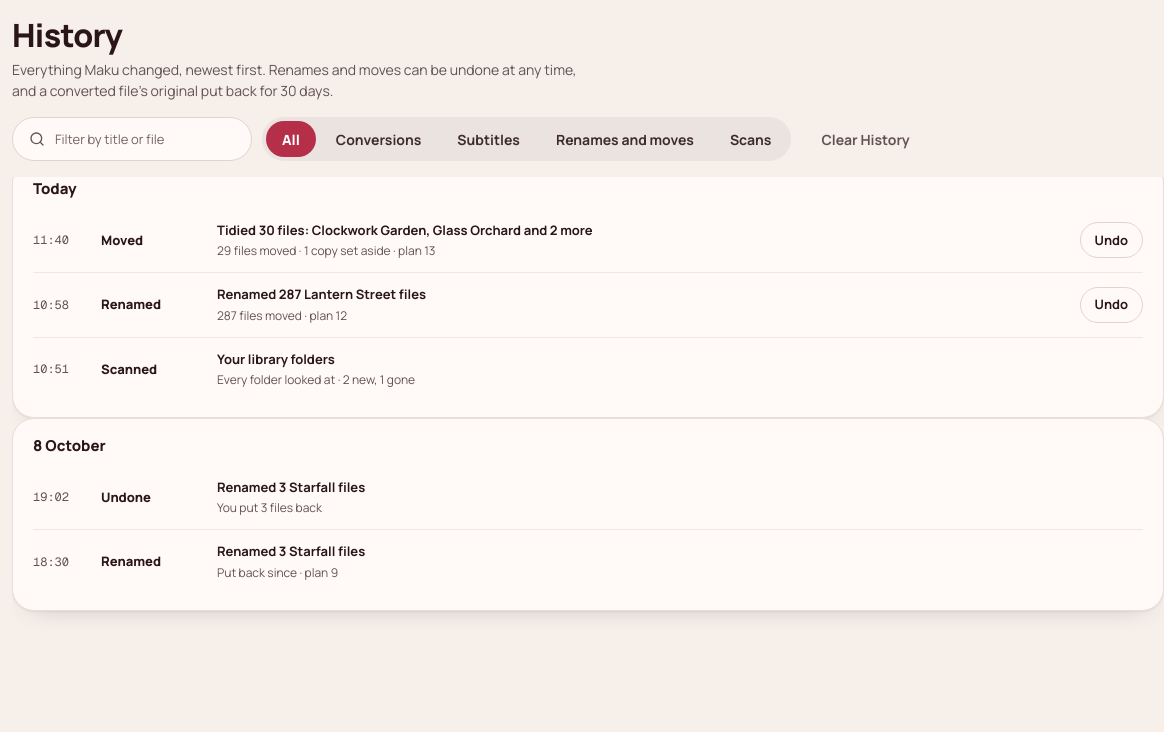
HistoryPage › finds what names a title or file, and says when nothing does
Check: the element "Today" is shown, box [12,161,1163,418]
Type "northwind" into the search field named "Filter History" at (129, 139), box [55,118,203,160]
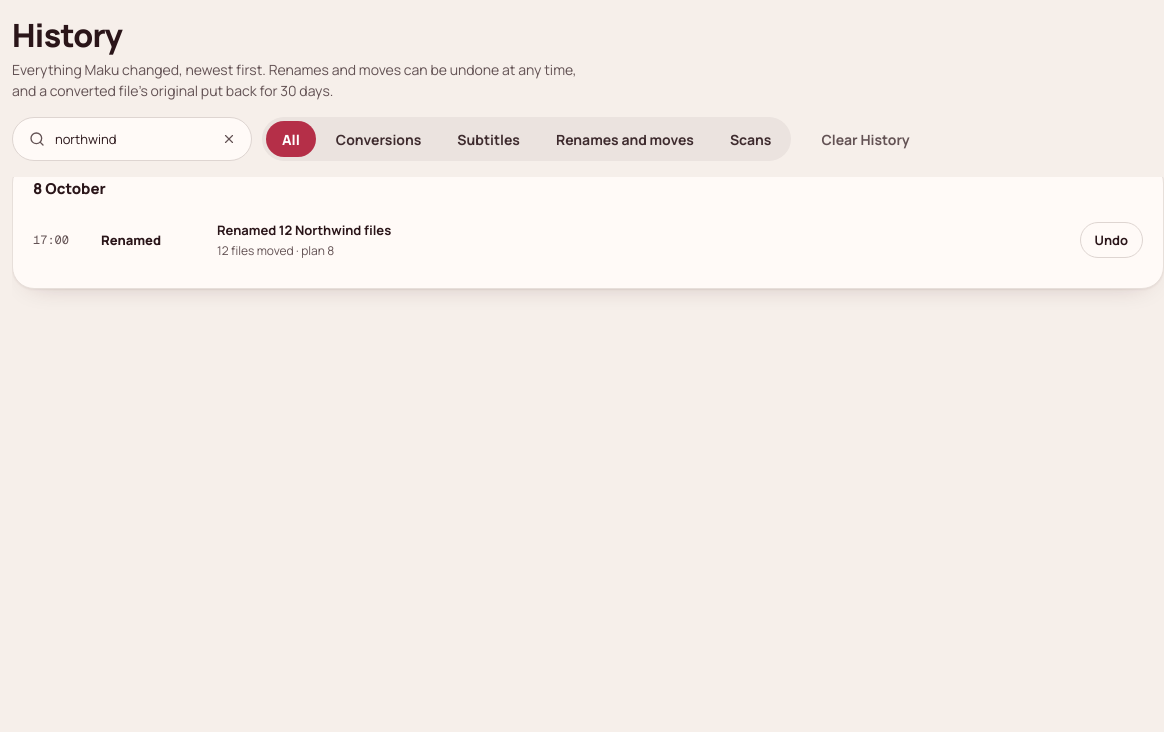
Check: the element "8 October" shows "Renamed 12 Northwind files", box [217,221,391,239]
Check: the heading "Today" is gone
Replace the text in the search field named "Filter History" with "Kestrel" at (129, 139), box [55,118,203,160]
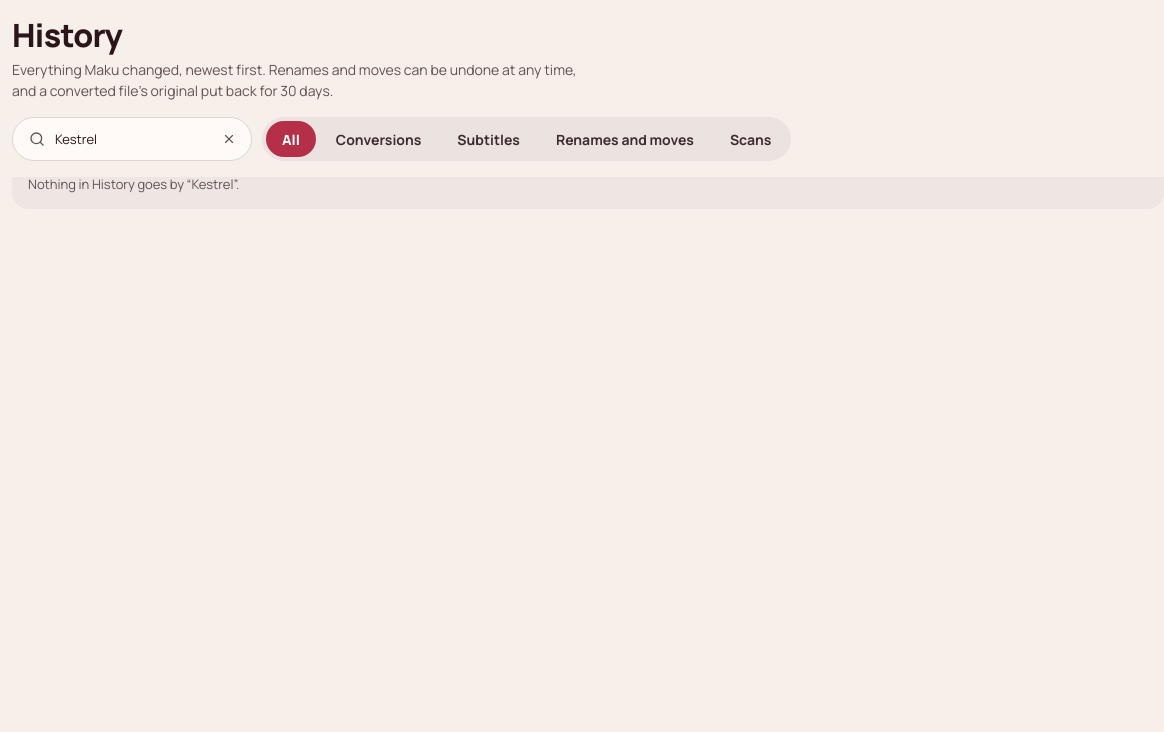
Check: the message reads "Nothing in History goes by “Kestrel”.", box [12,161,1163,209]
